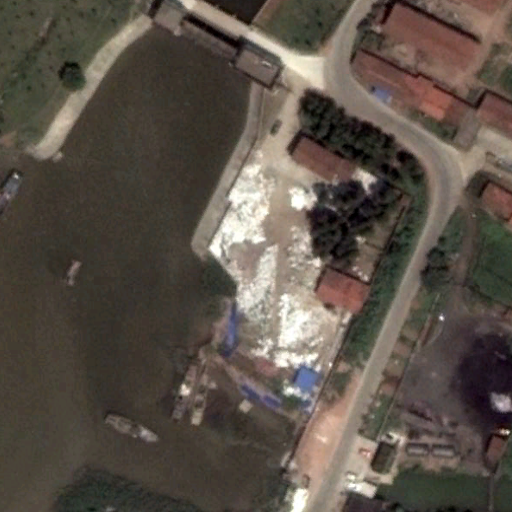msw: (209, 157, 362, 373)
